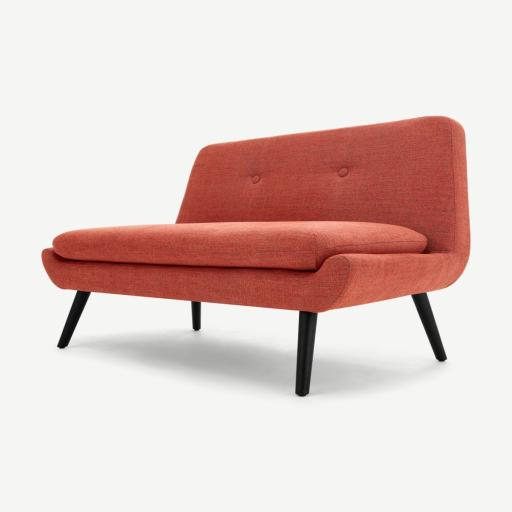back_cushion: (177, 117, 469, 284)
base: (42, 248, 461, 312)
legs: (413, 294, 445, 360), (295, 311, 317, 396), (58, 291, 90, 348), (192, 302, 201, 330)
one-seater: (42, 116, 470, 396)
seat_cushion: (53, 222, 426, 270)
